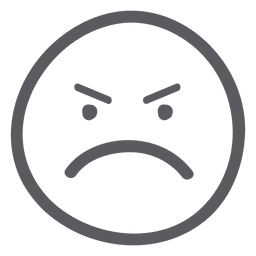triste: (1, 10, 246, 232), (65, 76, 198, 184)
